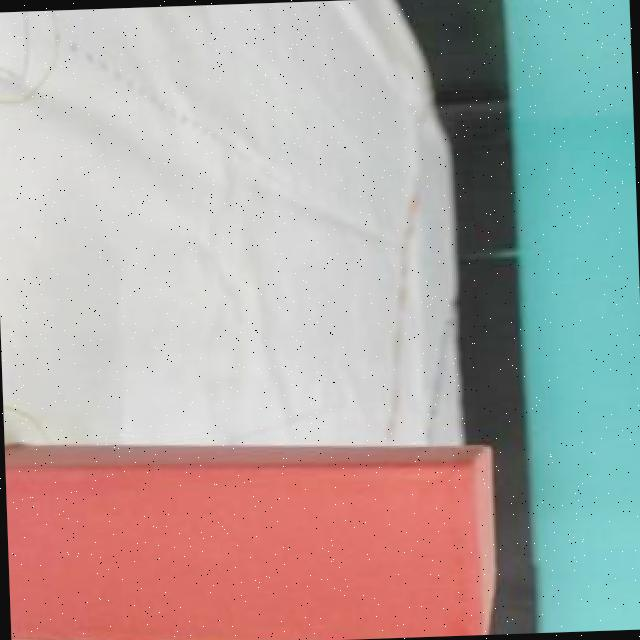redbox: (4, 420, 505, 640)
